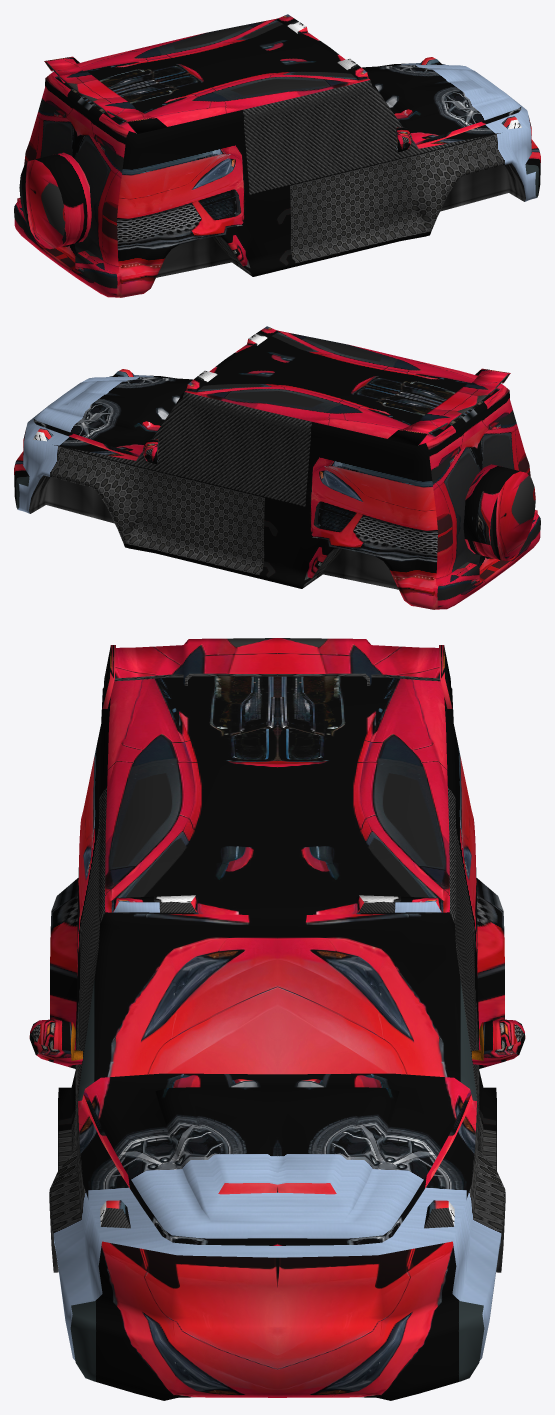
File: car 4.fbx
3 views of the same model, one above another, from view 1: azimuth 30°, elevation 25°; view 2: azimuth 150°, elevation 25°; view 3: azimuth 270°, elevation 25° (orthographic). The views are drawn at different scales.
Visible parts, largest first — view 1: car_4; view 2: car_4; view 3: car_4.
Boxes of the visible parts, x1,y1,x2,y2 form: car_4: (14,14,540,297); car_4: (14,326,540,609); car_4: (29,638,525,1400).
Size of the model in its own units: 2332 by 823 by 1063.
